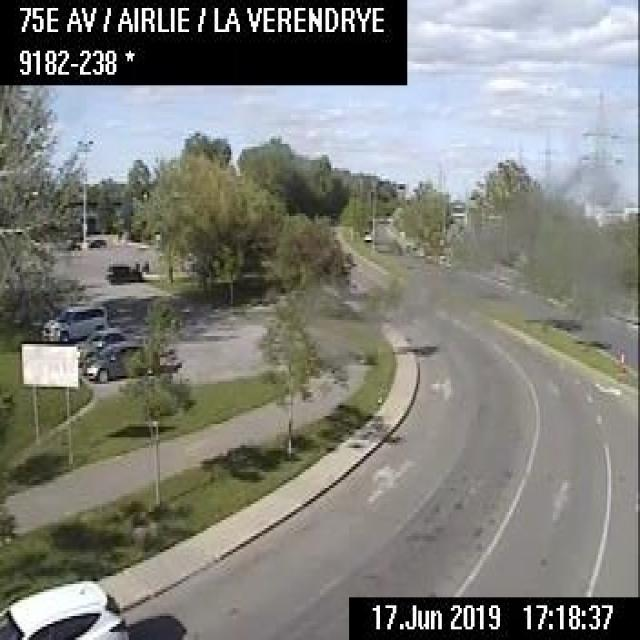vehicle: (0, 575, 127, 637), (84, 338, 146, 382), (39, 302, 106, 342), (74, 327, 126, 365), (104, 260, 141, 281), (362, 230, 372, 240)
